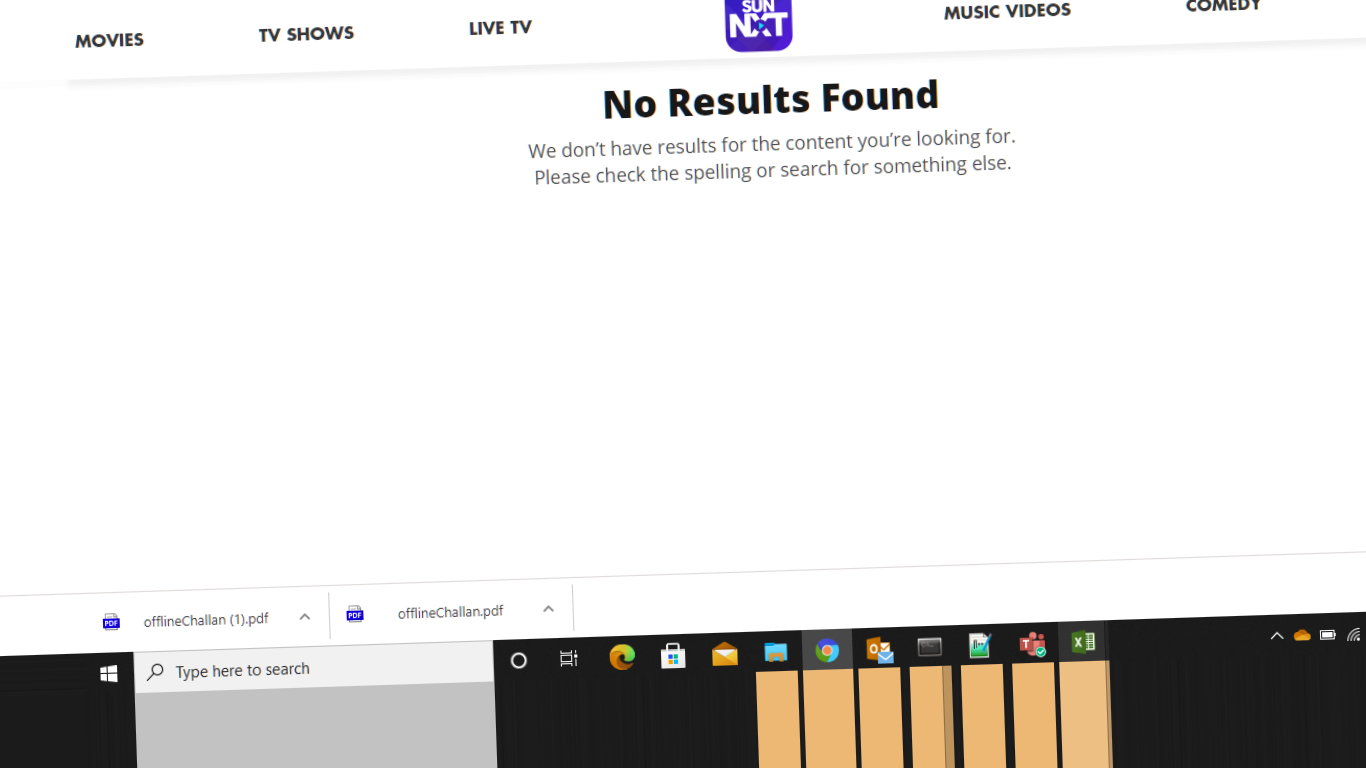noresultsfound: (503, 83, 1104, 181)
